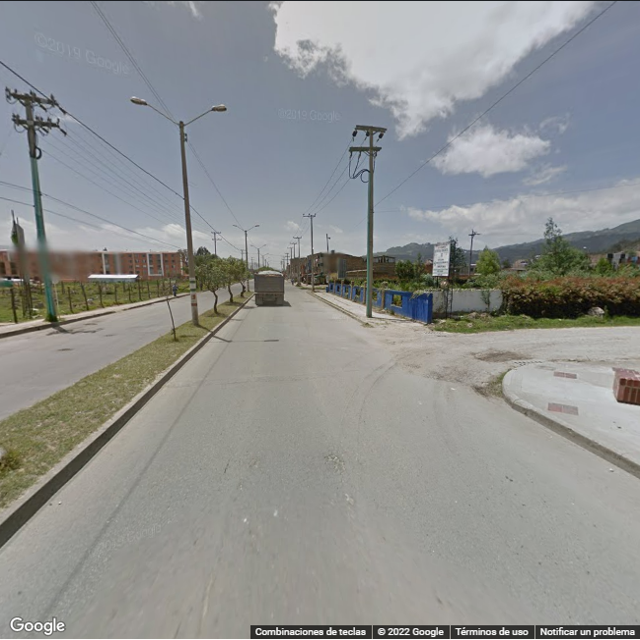D20: (162, 432, 265, 486), (279, 433, 360, 486)
